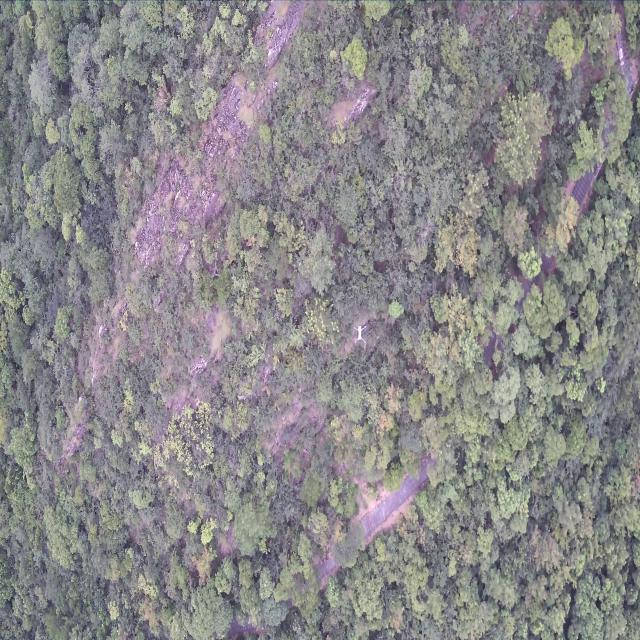UAV: (353, 324, 367, 344)
